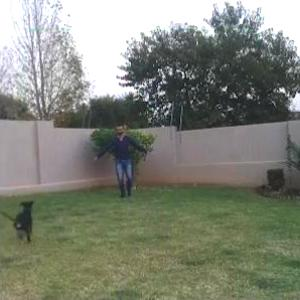land: (85, 115, 151, 204)
